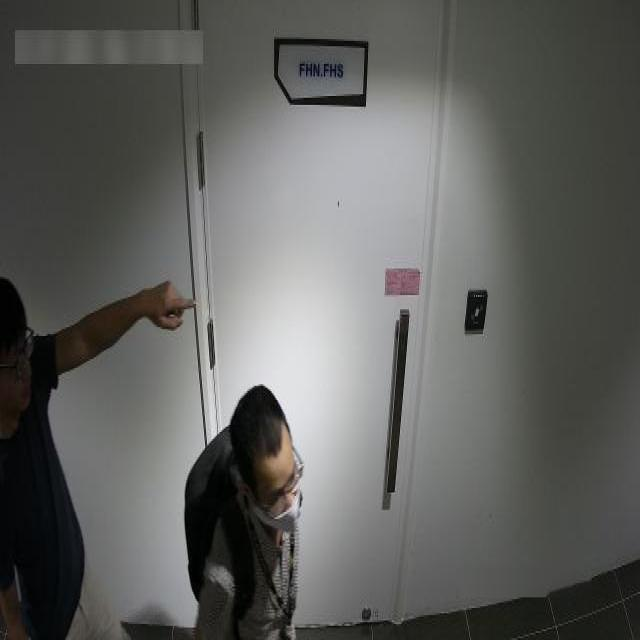bare_hand: (127, 265, 204, 345)
